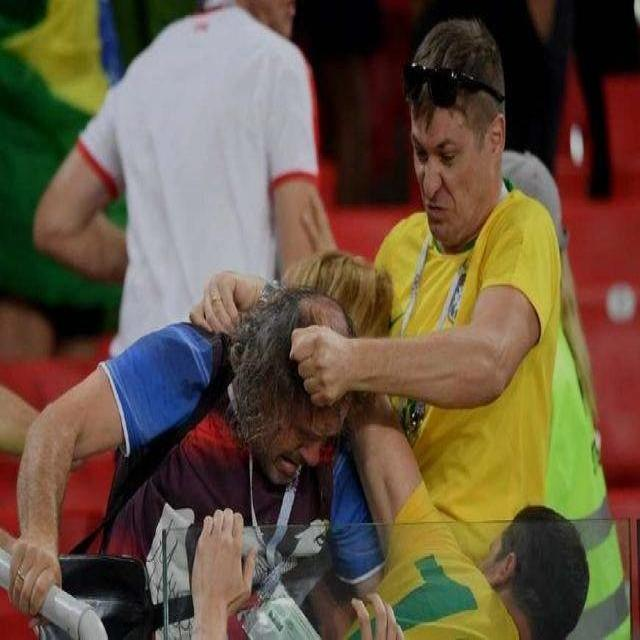fight: (10, 0, 587, 640)
